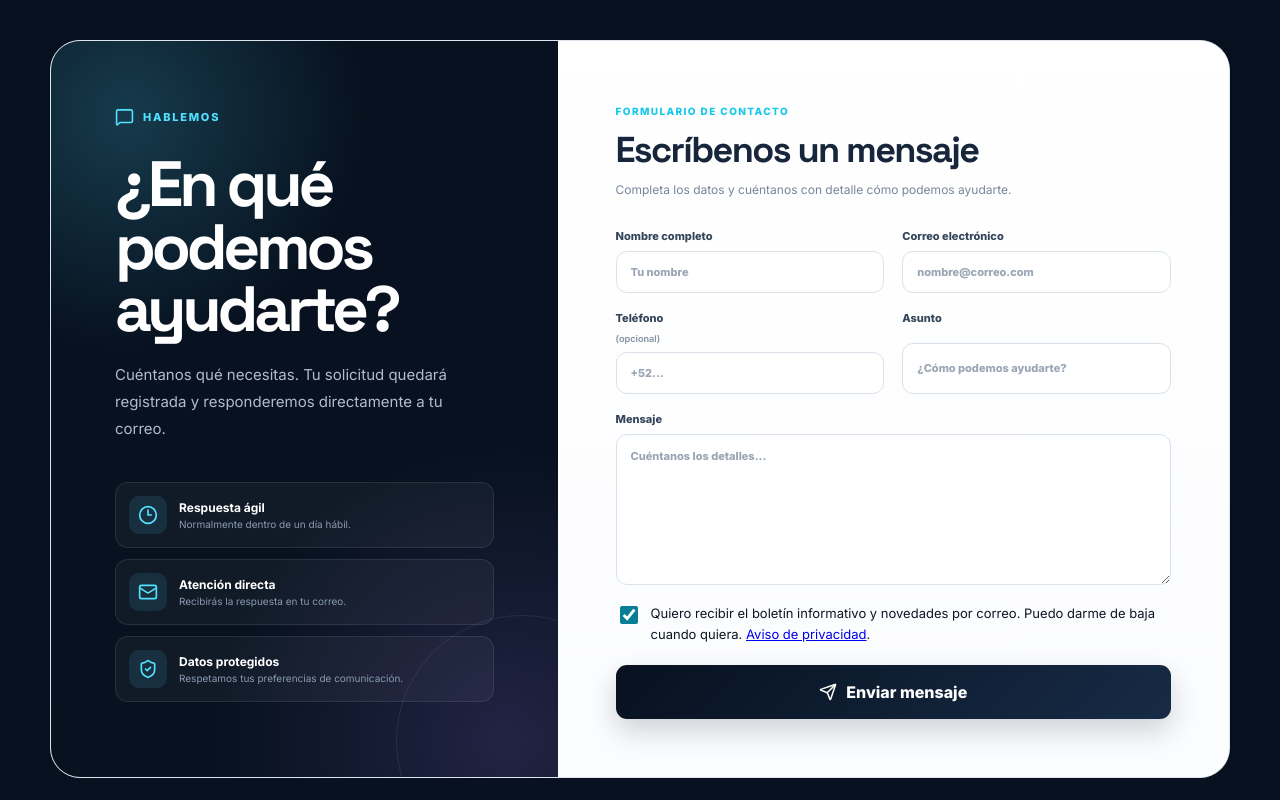
Test case: Preferencia de newsletter en contacto › envía la preferencia explícita false y permite enviar sin suscribirse
Step 1. Click the checkbox labelled "Quiero recibir el boletín" → (628, 615), box [620,606,638,624]
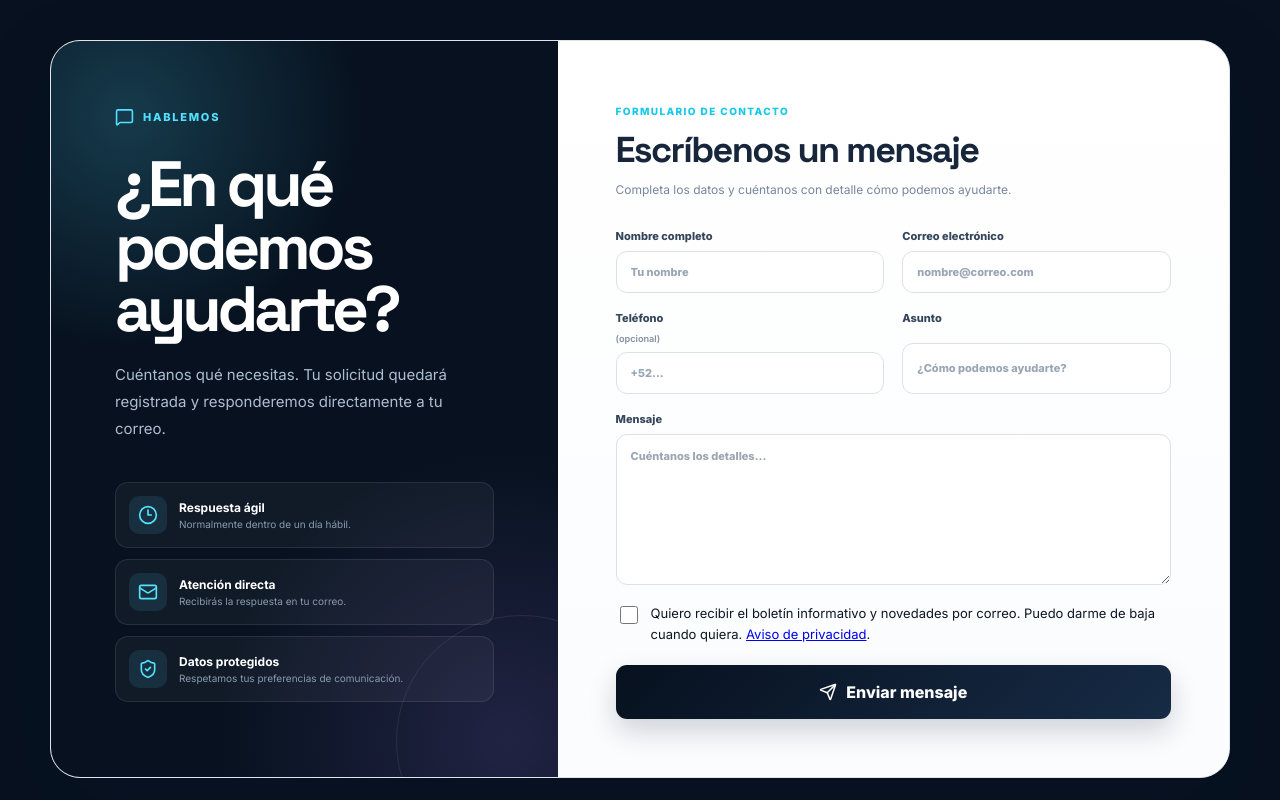
Step 2. Type "Persona de prueba" into the field labelled "Nombre completo" → (750, 272), box [616,251,884,293]
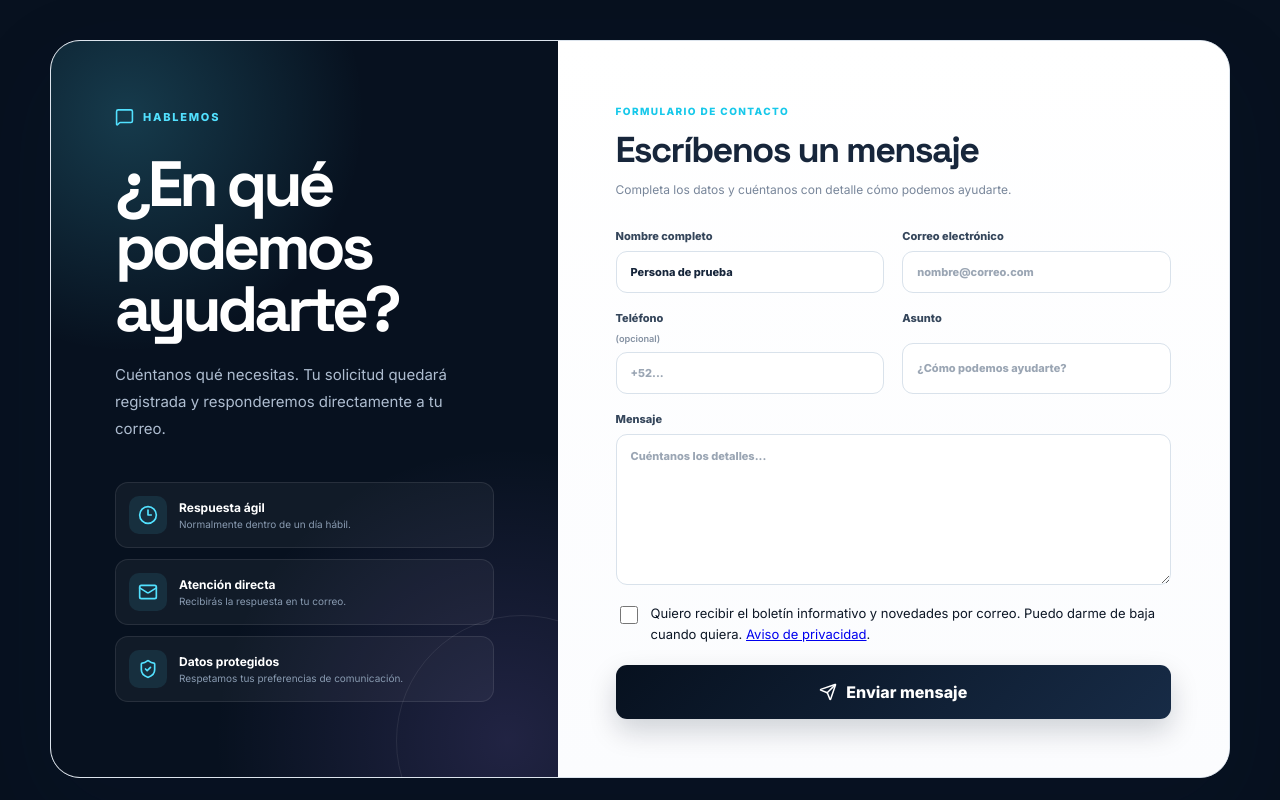
Step 3. Type "contact@example.invalid" into the field labelled "Correo electrónico" → (1037, 272), box [902,251,1171,293]
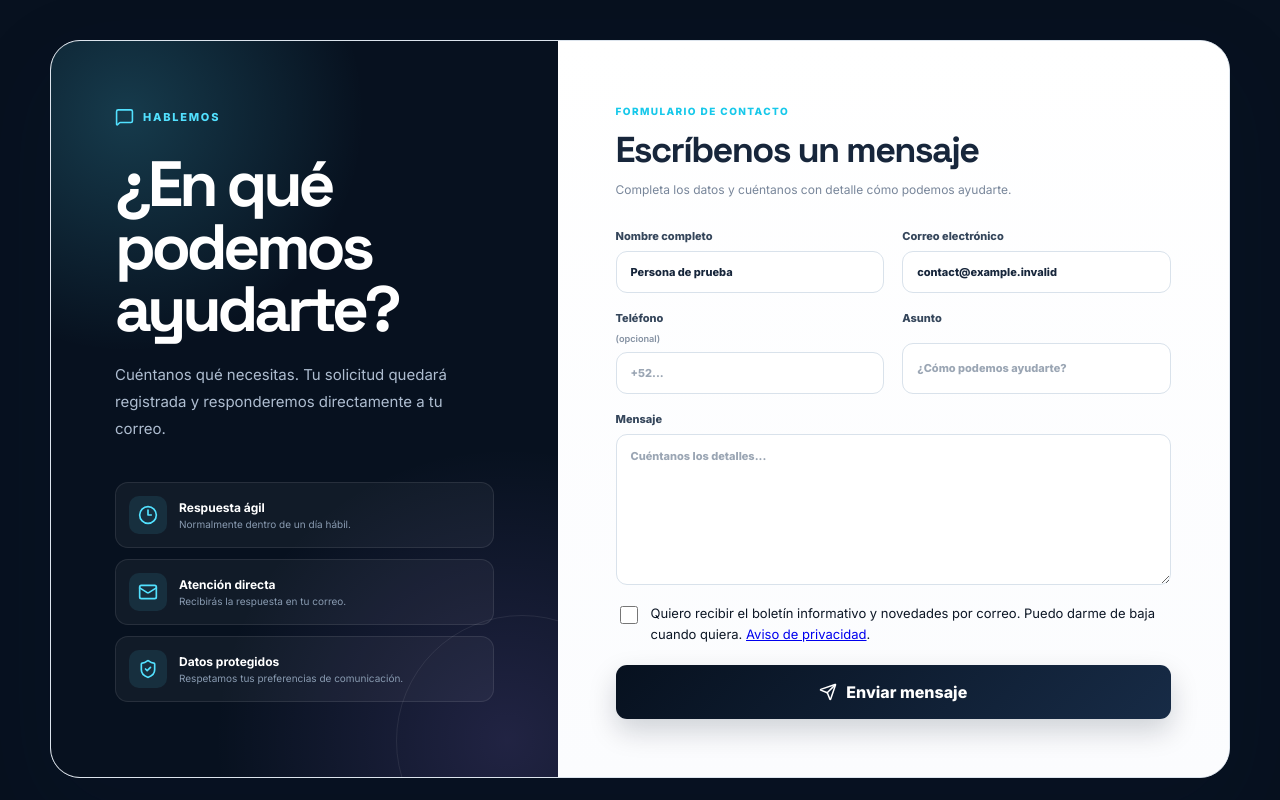
Step 4. Type "Consulta de prueba" into the field labelled "Asunto" → (1037, 368), box [902,343,1171,394]
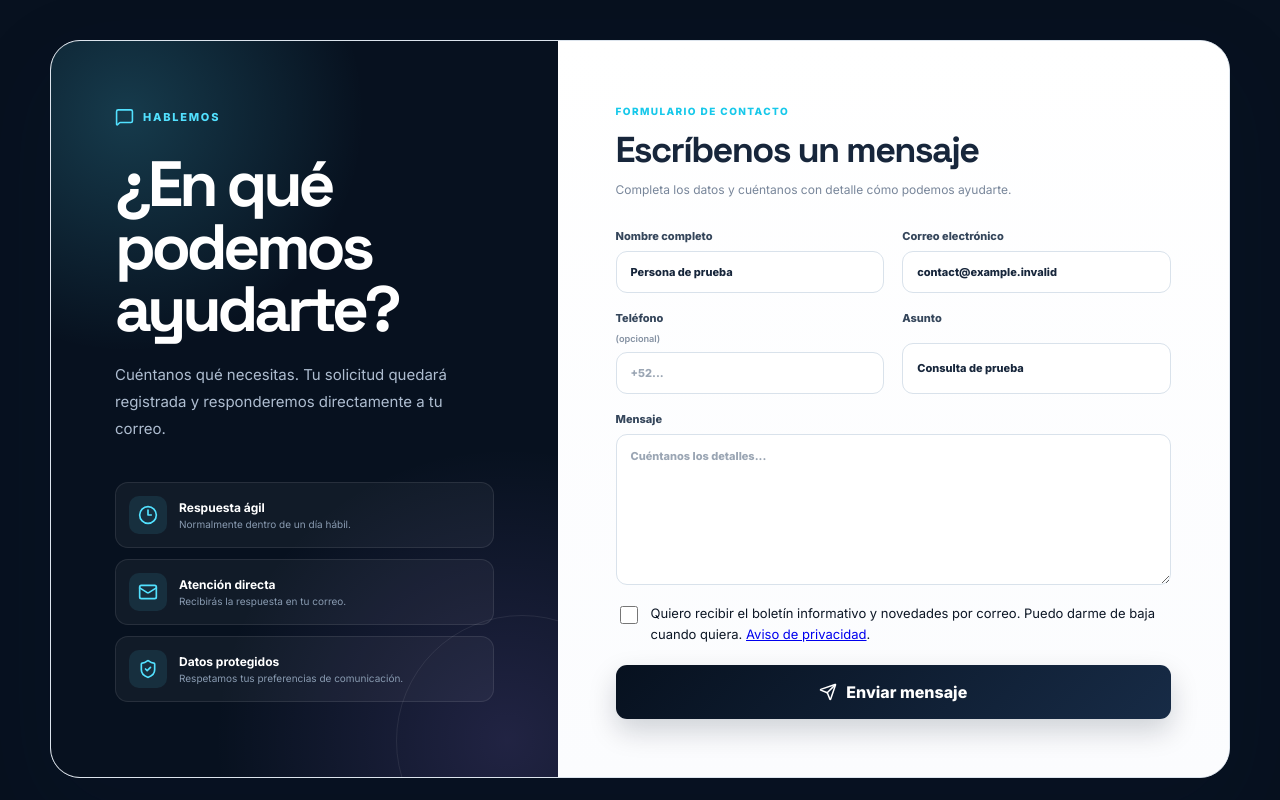
Step 5. Type "Quisiera información del curso" into the text box labelled "Mensaje" → (893, 510), box [616,434,1171,585]
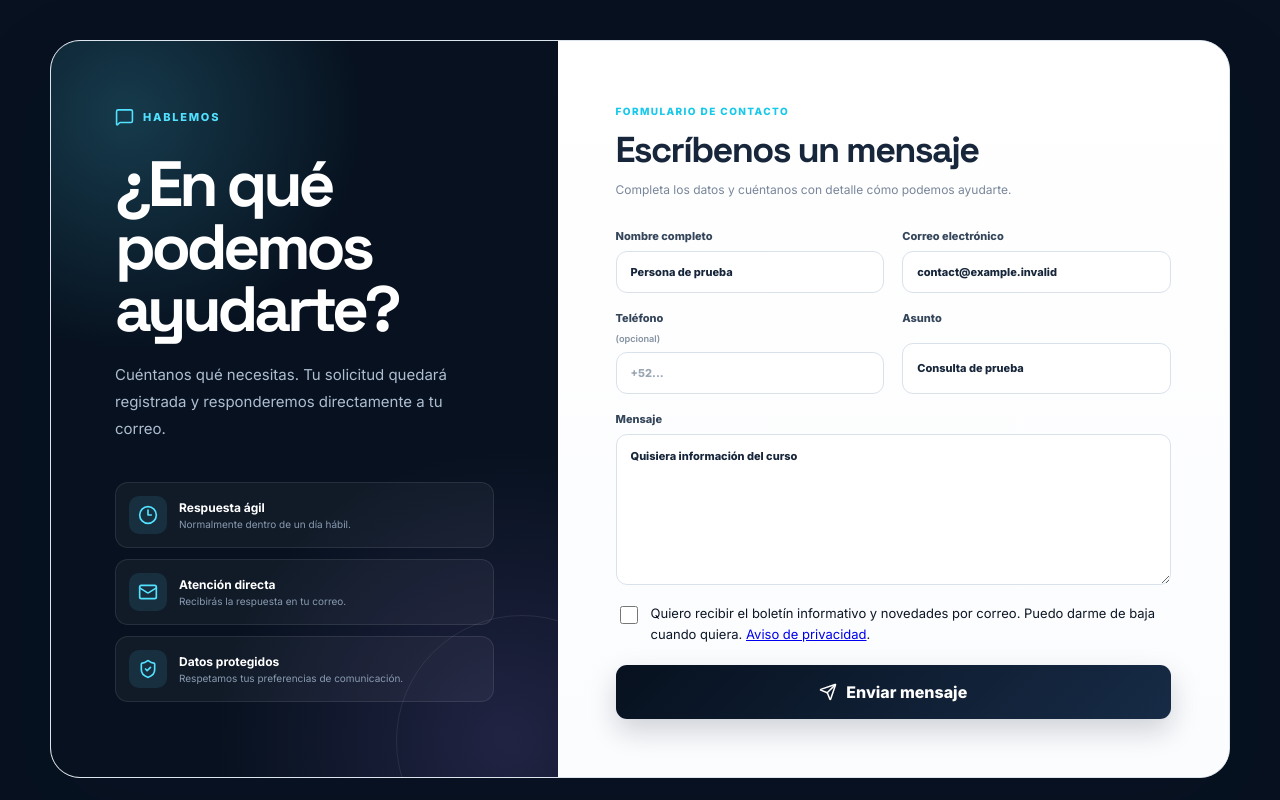
Step 6. Submit the form, box [616,99,1171,719]
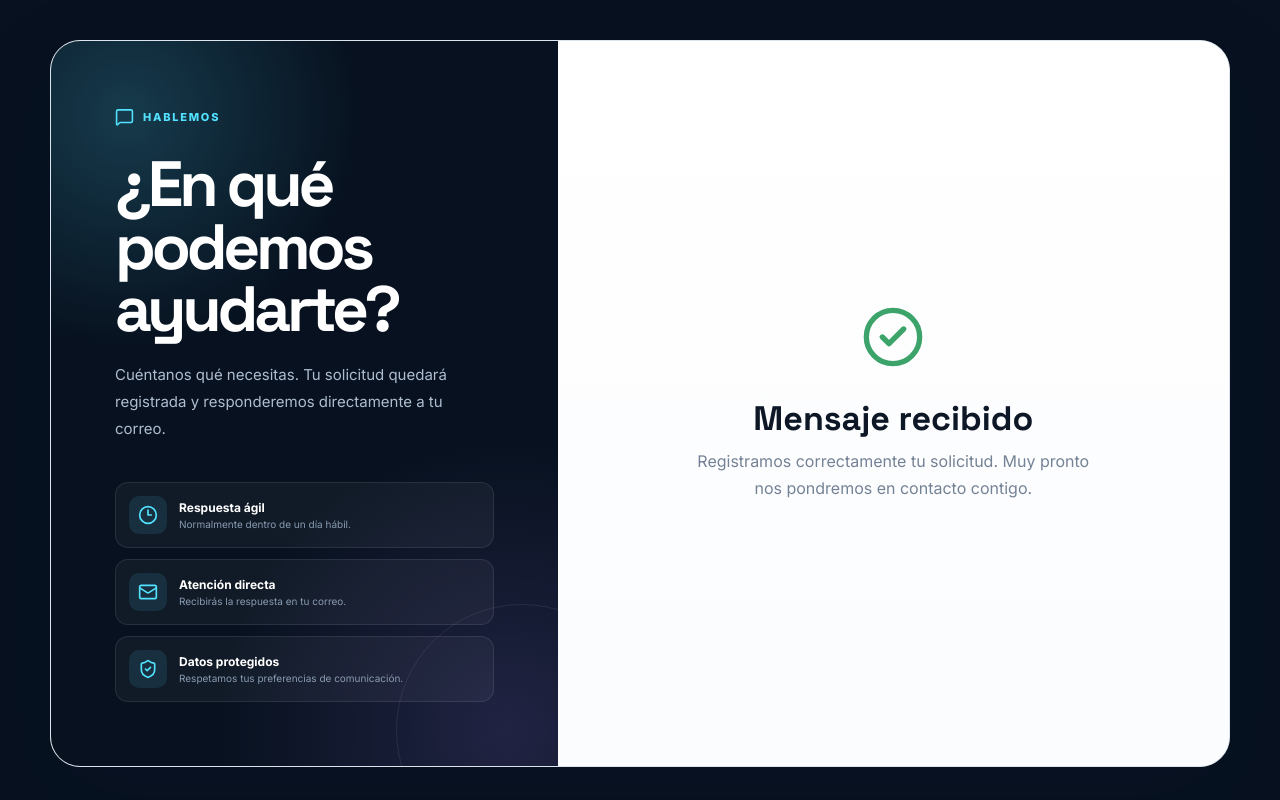
Expected: the heading "Mensaje recibido" is shown, [753,397,1033,440]
